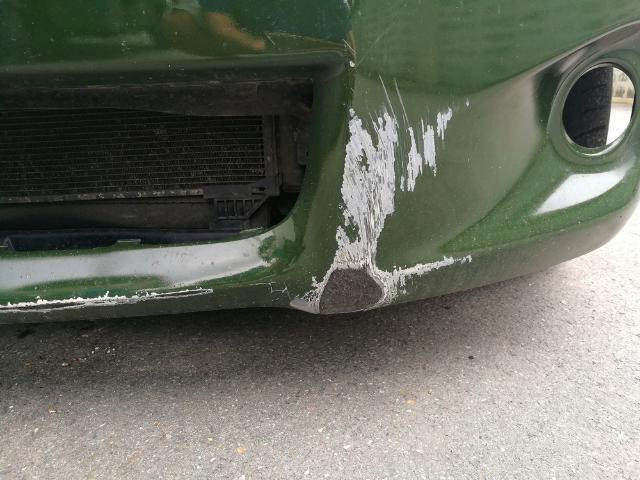scratch: (269, 72, 476, 316), (0, 282, 218, 318)
